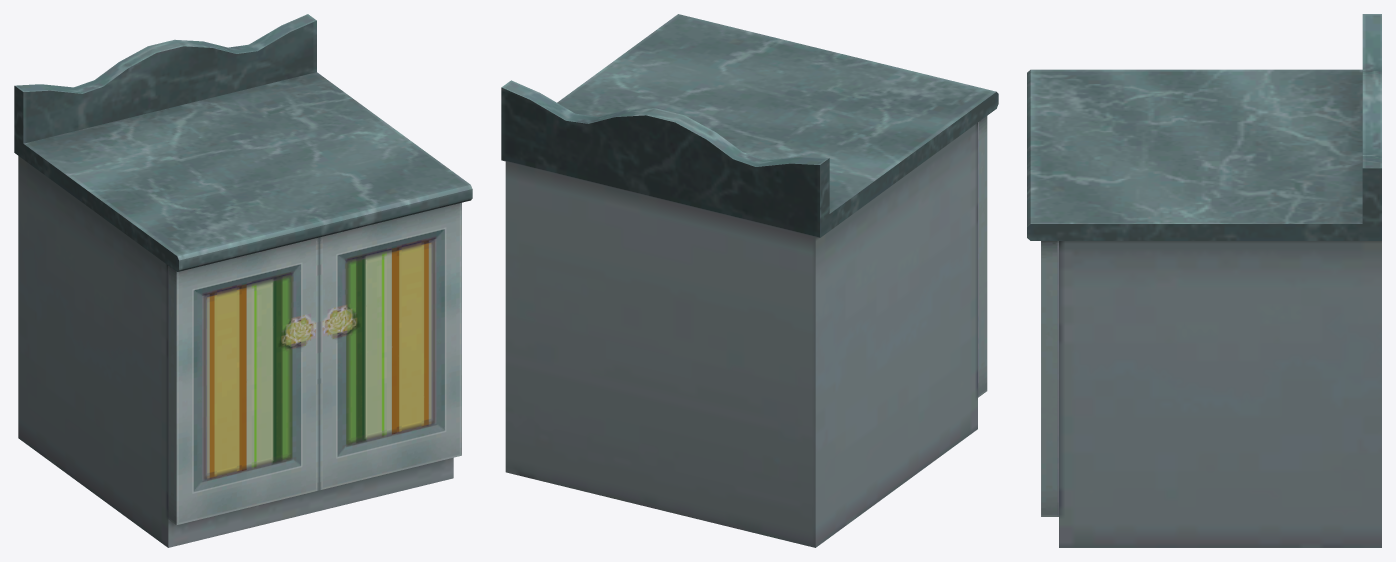
Rendered from furni_0200616_02.FBX.
The picture shows the model from 3 angles, left to right: view 1: azimuth 30°, elevation 25°; view 2: azimuth 150°, elevation 25°; view 3: azimuth 270°, elevation 25°; orthographic projection. The views are drawn at different scales.
Parts seen in each view (by area): view 1: furni_0200616_02; view 2: furni_0200616_02; view 3: furni_0200616_02.
Boxes of the visible parts, x1=… form: furni_0200616_02: x1=14, y1=14, x2=472, y2=547; furni_0200616_02: x1=501, y1=14, x2=998, y2=547; furni_0200616_02: x1=1027, y1=14, x2=1381, y2=547.
Bounding box in the file's own units: 82.23 × 96.53 × 79.84.
Materials: 1 (1 with a texture image).
